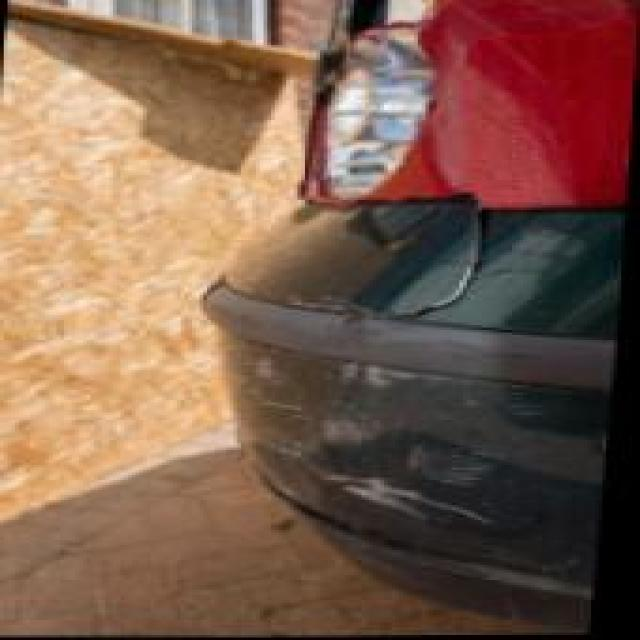Bumper: (102, 202, 614, 576)
Light: (286, 0, 640, 212)
